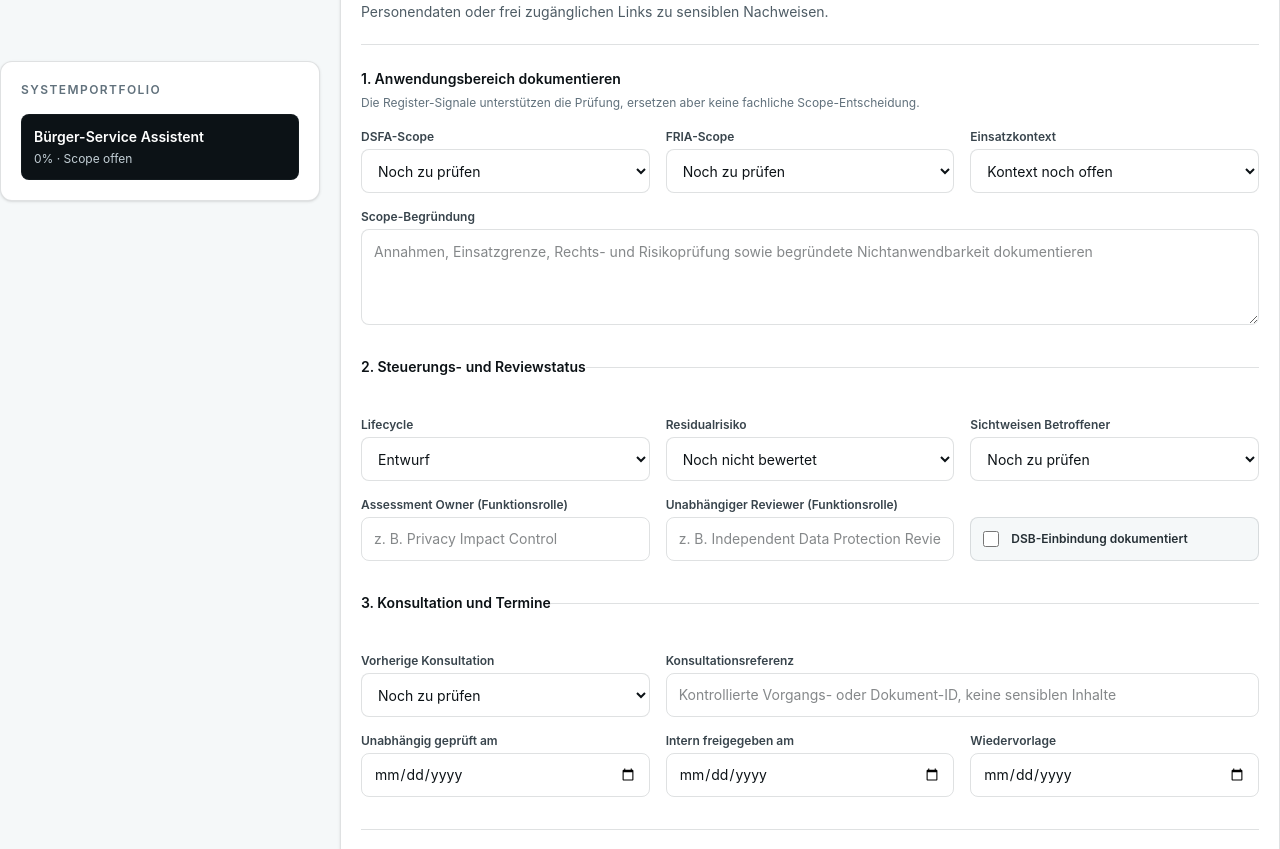
ImpactAssessmentWorkspace › prevents approval while scope and independent review remain incomplete
The width and height of the screenshot is (1280, 849).
(page scrolled)
Select "Intern freigegeben" in the dropdown labelled "Lifecycle" at [505, 459], box [361,437,650,481]
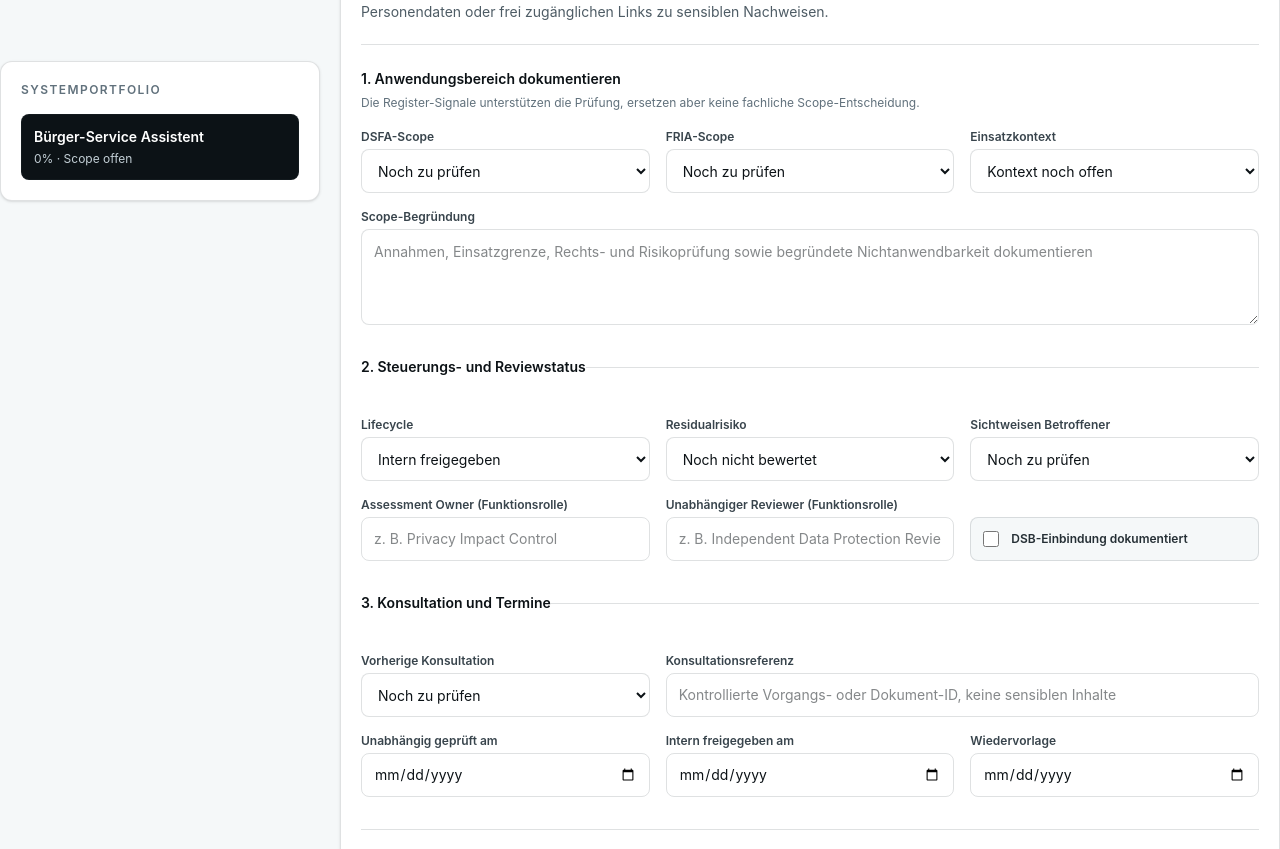
Type "Privacy Control" into the field labelled "Assessment Owner (Funktionsrolle)" at [505, 539], box [361,517,650,561]
(page scrolled)
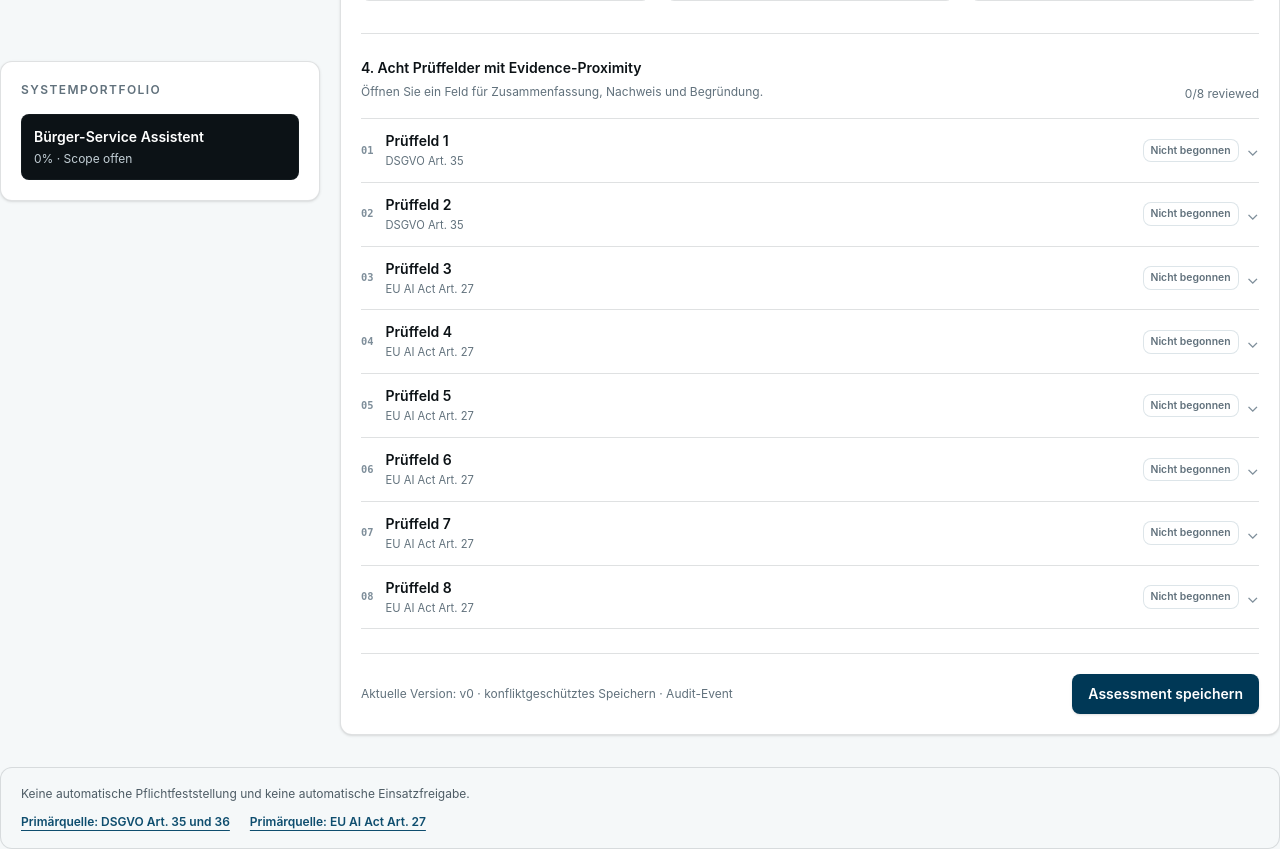
Click the button "Assessment speichern" at [1166, 694], box [1072,674,1259,714]
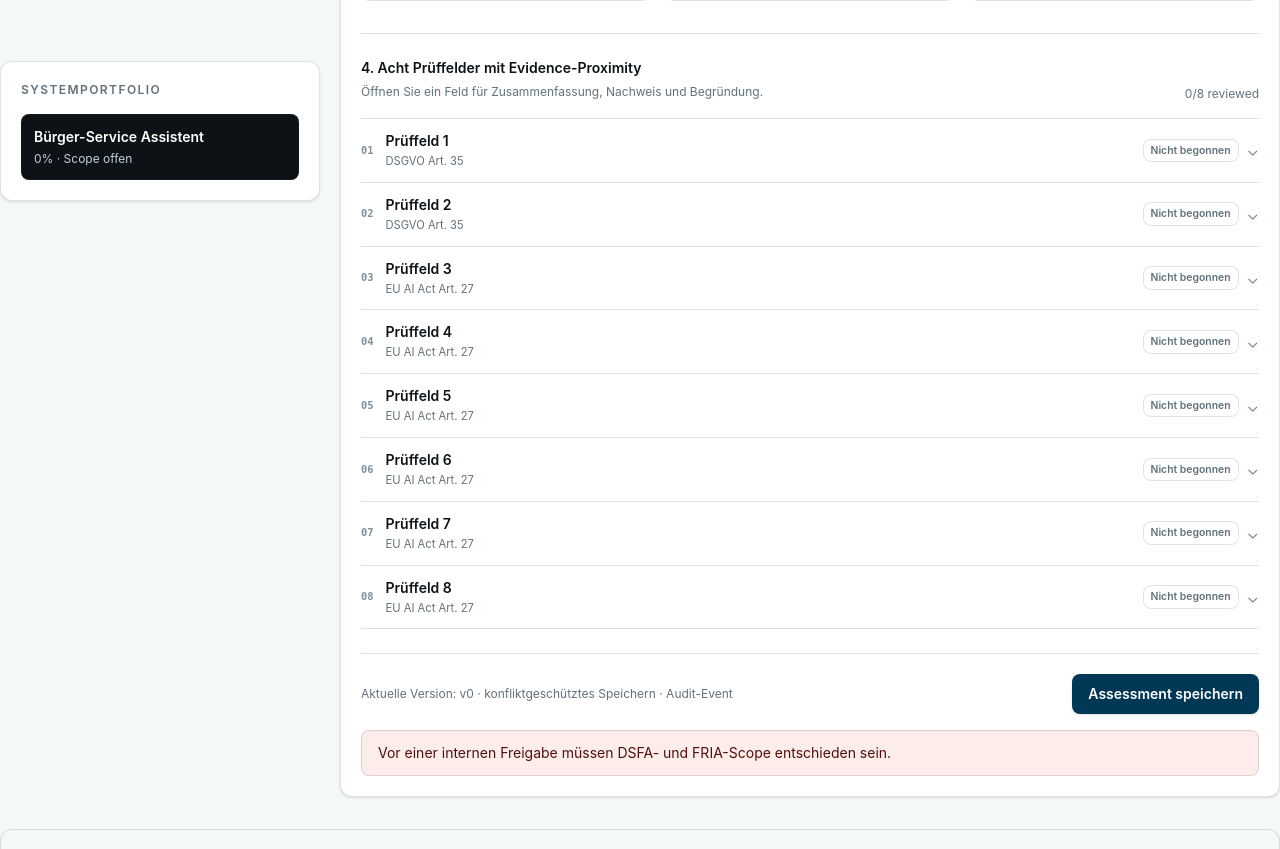
Expected: the message shows "DSFA- und FRIA-Scope", [378,744,891,761]
